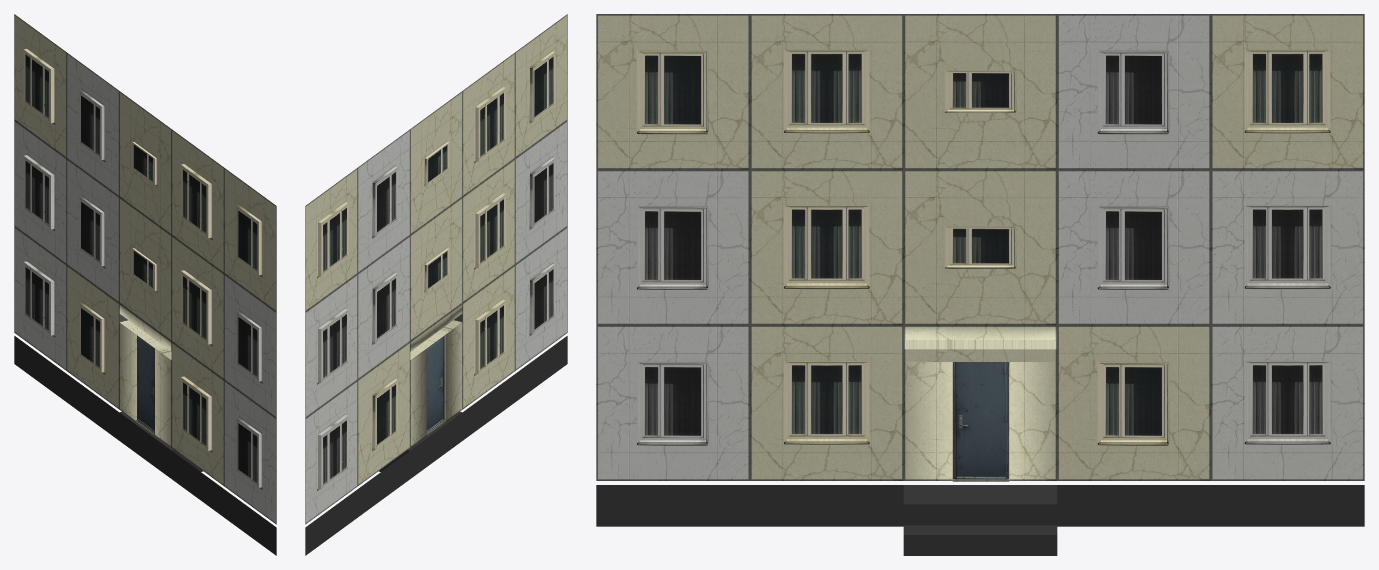
Rendered from wall_panel.fbx.
3 renders of one model, left to right at view 1: azimuth 30°, elevation 25°; view 2: azimuth 150°, elevation 25°; view 3: azimuth 270°, elevation 25°, orthographic. The views are drawn at different scales.
Parts seen in each view (by area): view 1: Cube.001; view 2: Cube.001; view 3: Cube.001.
Boxes of the visible parts, x1,y1,x2,y2 form: Cube.001: (14, 14, 276, 555); Cube.001: (305, 14, 567, 555); Cube.001: (596, 14, 1364, 555).
Bounding box in the file's own units: 29.05 × 220 × 299.
